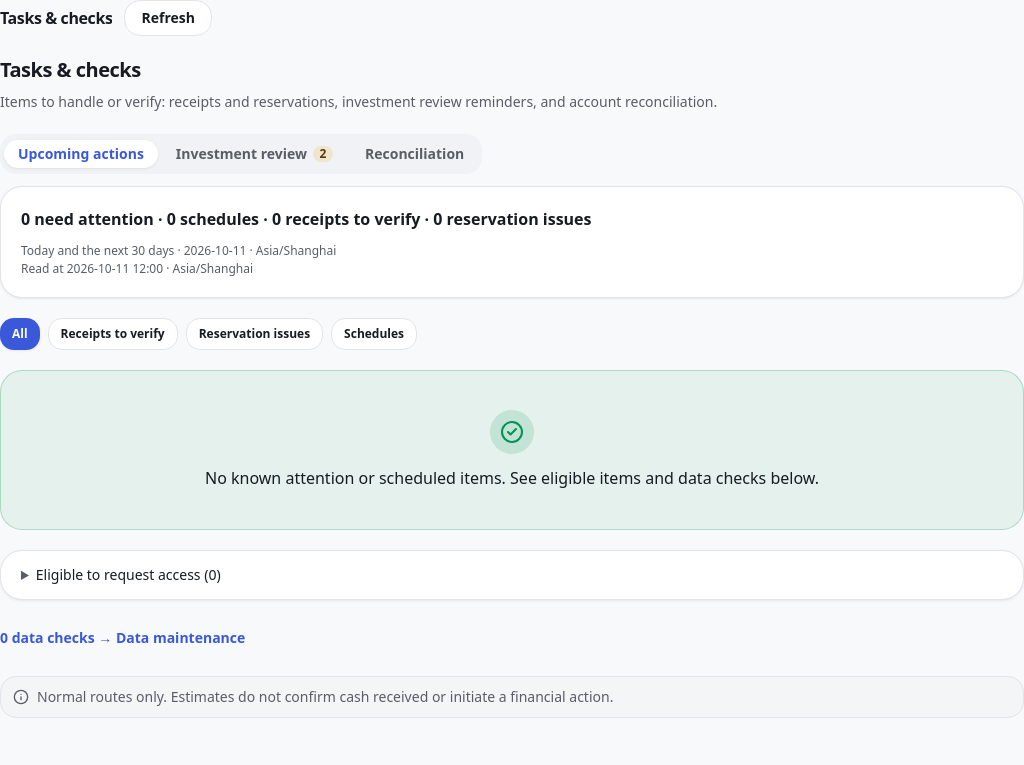
it: Upcoming Actions investment review entry › surfaces a failed automatic reconciliation with the shared retry state
Click the tab "Investment review 2" at (254, 154), box [162,140,347,168]
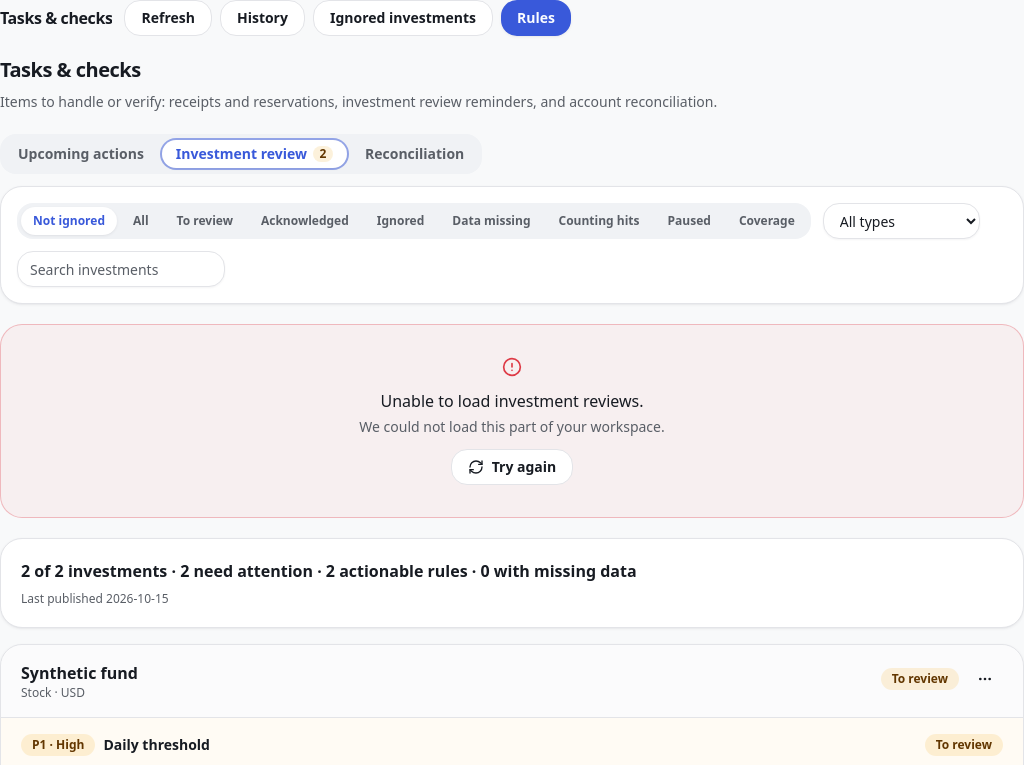
Result: the heading "Unable to load investment reviews." is shown at [359,389,665,413]
Result: the message that starts with "Unable to load investment reviews." shows "We could not load this part of your workspace." at [359,417,665,436]
Click the button "Try again" at (512, 467), box [451,449,573,485]
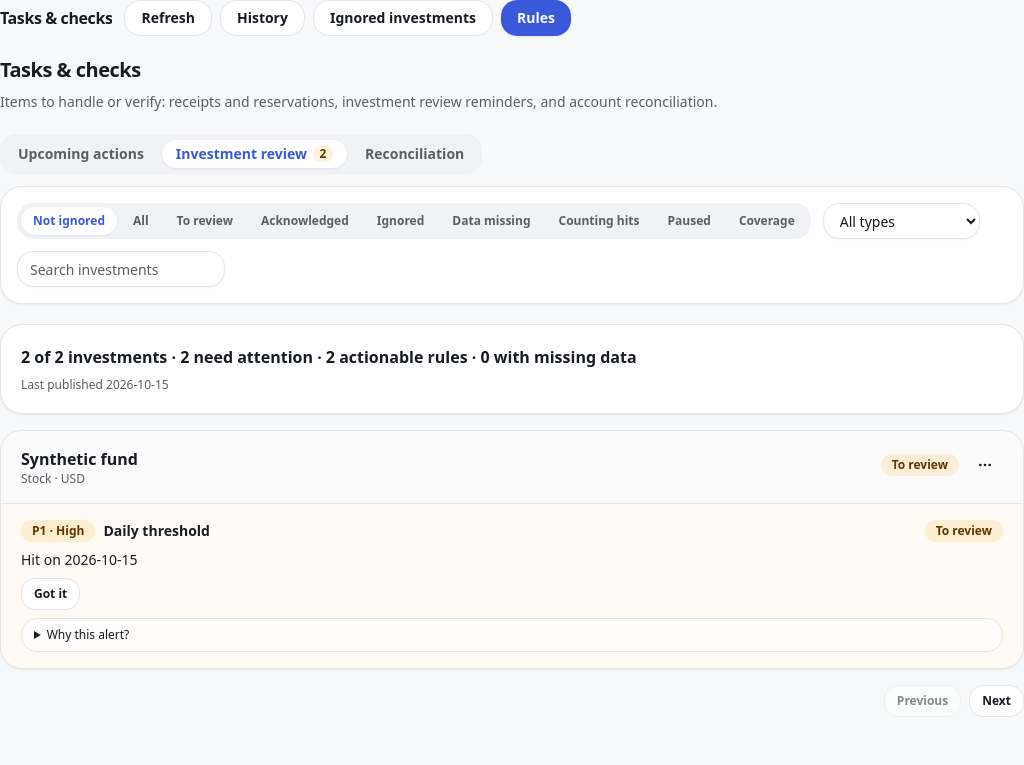
Result: the heading "Unable to load investment reviews." is gone
